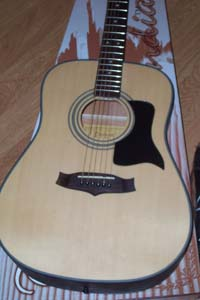guitar: (1, 1, 195, 293)
